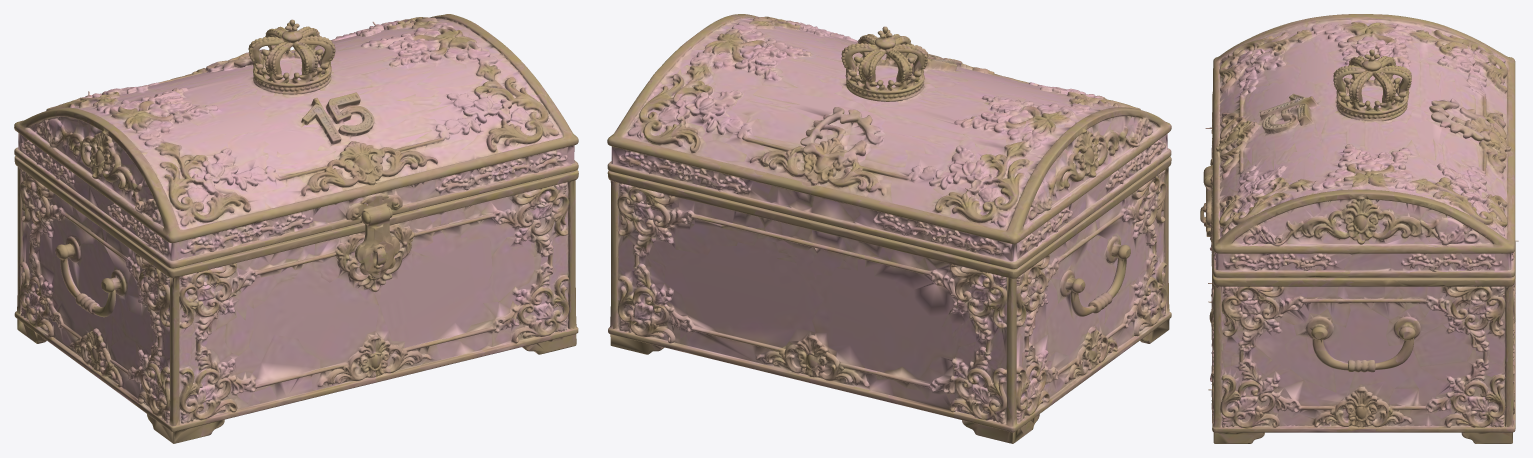
Rendered from model-mobile.glb.
The picture shows the model from 3 angles, left to right: view 1: azimuth 30°, elevation 25°; view 2: azimuth 150°, elevation 25°; view 3: azimuth 270°, elevation 25°; orthographic projection. The views are drawn at different scales.
Size of the model in its own units: 1.9 by 1.32 by 1.27.
Materials: 1 (1 with a texture image).
